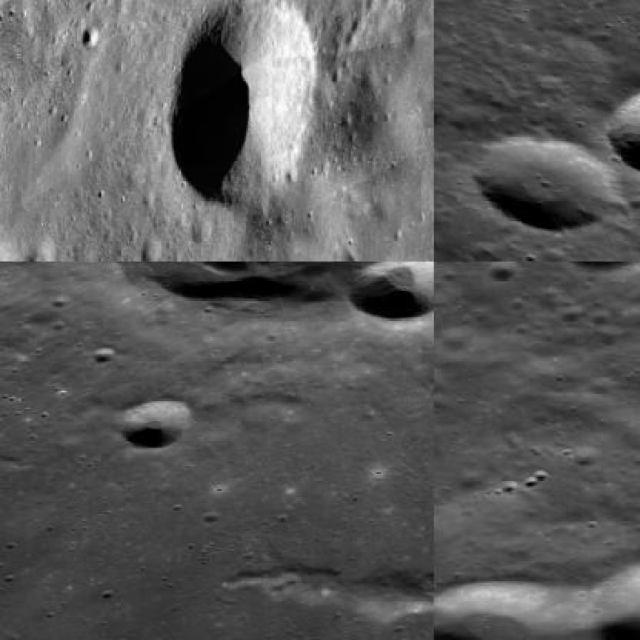crater: (169, 0, 322, 205), (472, 135, 623, 228), (434, 578, 594, 638), (348, 262, 432, 318), (592, 558, 638, 638), (119, 398, 192, 448), (604, 84, 638, 190), (426, 380, 432, 402)
